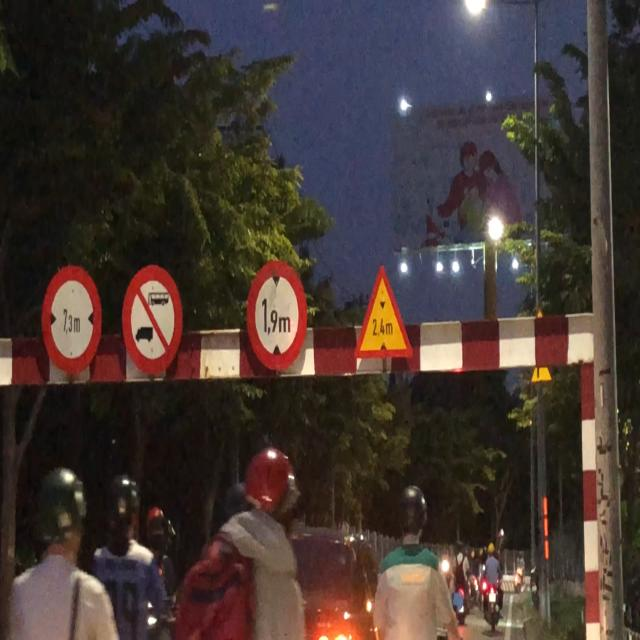Bien bao cam xe oto khach va xe oto tai: (121, 258, 190, 389)
Bien bao chieu cao tinh khong thuc te: (350, 260, 419, 367)
Bien bao han che chieu cao: (243, 250, 314, 382)
